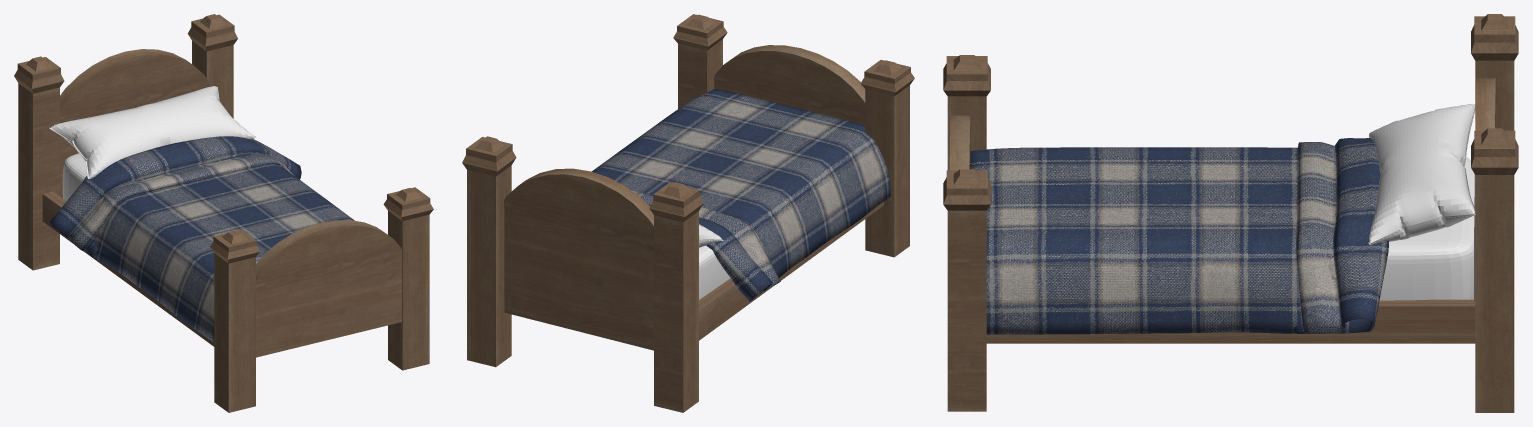
File: Cama.fbx
3 renders of one model, left to right at view 1: azimuth 30°, elevation 25°; view 2: azimuth 150°, elevation 25°; view 3: azimuth 270°, elevation 25°, orthographic. The views are drawn at different scales.
Parts seen in each view (by area): view 1: Cama, Manta, Cube.026, Cubo; view 2: Cama, Manta, Cubo; view 3: Manta, Cama, Cube.026, Cubo.
Part boxes in pixels (x1,y1,x2,y2): Cama: [14, 14, 433, 412]; Manta: [49, 136, 354, 342]; Cube.026: [49, 86, 256, 178]; Cubo: [62, 153, 86, 200]; Cama: [462, 14, 914, 412]; Manta: [592, 89, 890, 301]; Cubo: [699, 245, 730, 299]; Manta: [970, 138, 1388, 334]; Cama: [943, 14, 1518, 412]; Cube.026: [1368, 104, 1475, 244]; Cubo: [1379, 157, 1474, 300].
Bounding box in the file's own units: 1211 × 946 × 1808.
